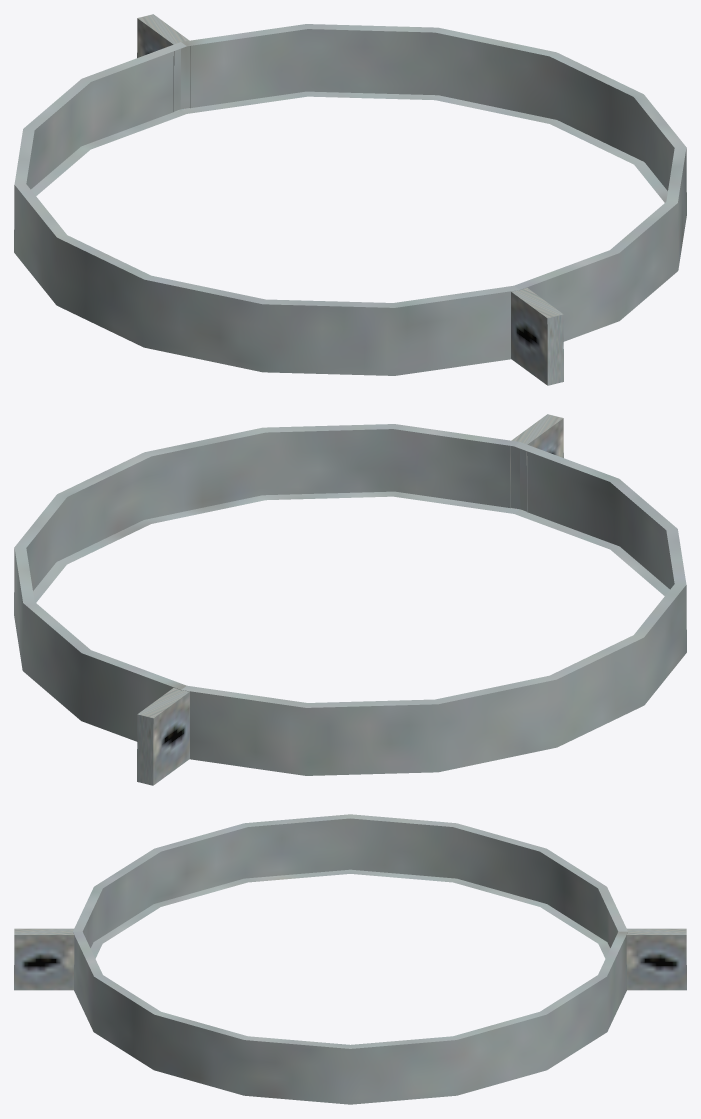
File: belt.glb
The picture shows the model from 3 angles, top to bottom: view 1: azimuth 30°, elevation 25°; view 2: azimuth 150°, elevation 25°; view 3: azimuth 270°, elevation 25°; orthographic projection. The views are drawn at different scales.
Visible parts, largest first — view 1: belt; view 2: belt; view 3: belt.
Part boxes in pixels (bbox=[...]): belt: bbox=[14, 14, 686, 385]; belt: bbox=[14, 414, 686, 785]; belt: bbox=[14, 814, 686, 1104].
Bounding box in the file's own units: 0.3628 × 0.04 × 0.439.
1 material, 1 textured.
